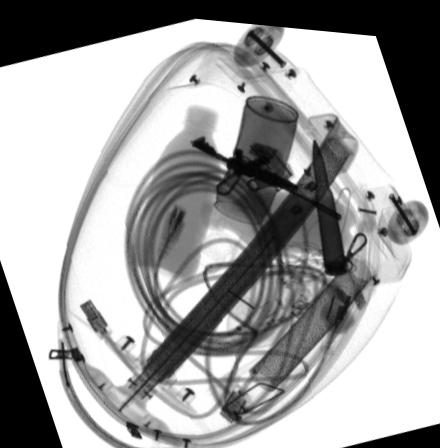Bullet: (311, 133, 344, 270)
Gun: (189, 131, 341, 213)
